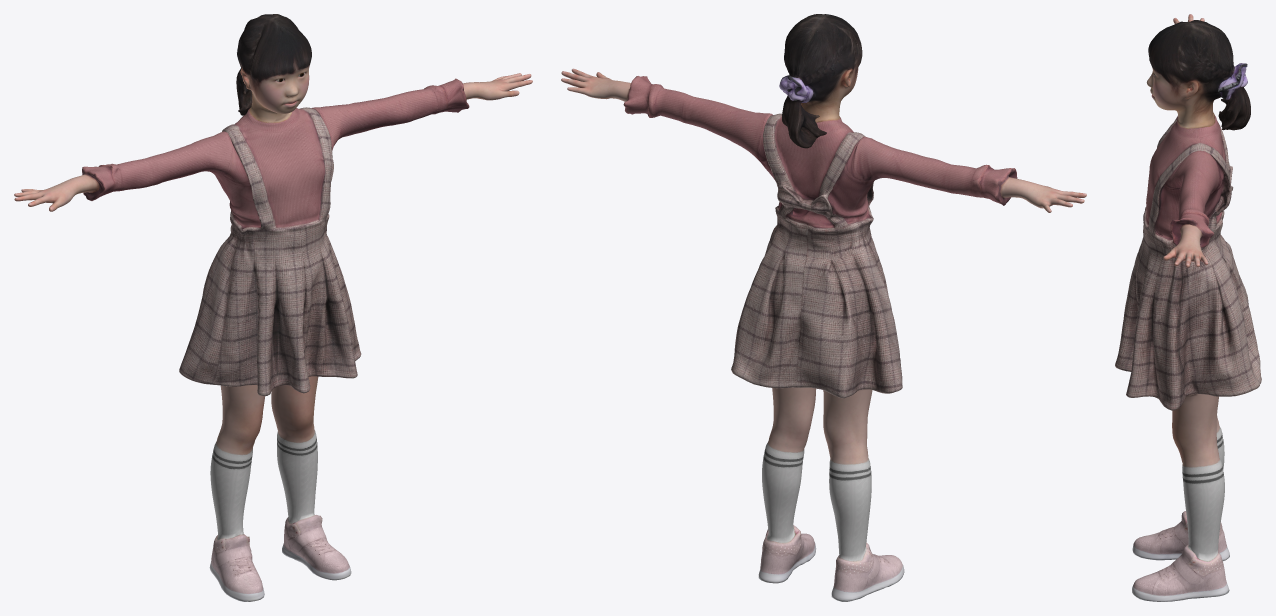
File: 0_256_Suzu_eye_teeth.fbx
The picture shows the model from 3 angles, left to right: view 1: azimuth 30°, elevation 25°; view 2: azimuth 150°, elevation 25°; view 3: azimuth 270°, elevation 25°; orthographic projection.
Parts seen in each view (by area): view 1: 256_Suzu; view 2: 256_Suzu; view 3: 256_Suzu.
Part boxes in pixels (<box>): 256_Suzu: <box>14,14,532,601</box>; 256_Suzu: <box>561,14,1086,601</box>; 256_Suzu: <box>1115,14,1261,601</box>.
Bounding box in the file's own units: 137 × 140 × 33.8.
3 materials, 3 textured.
